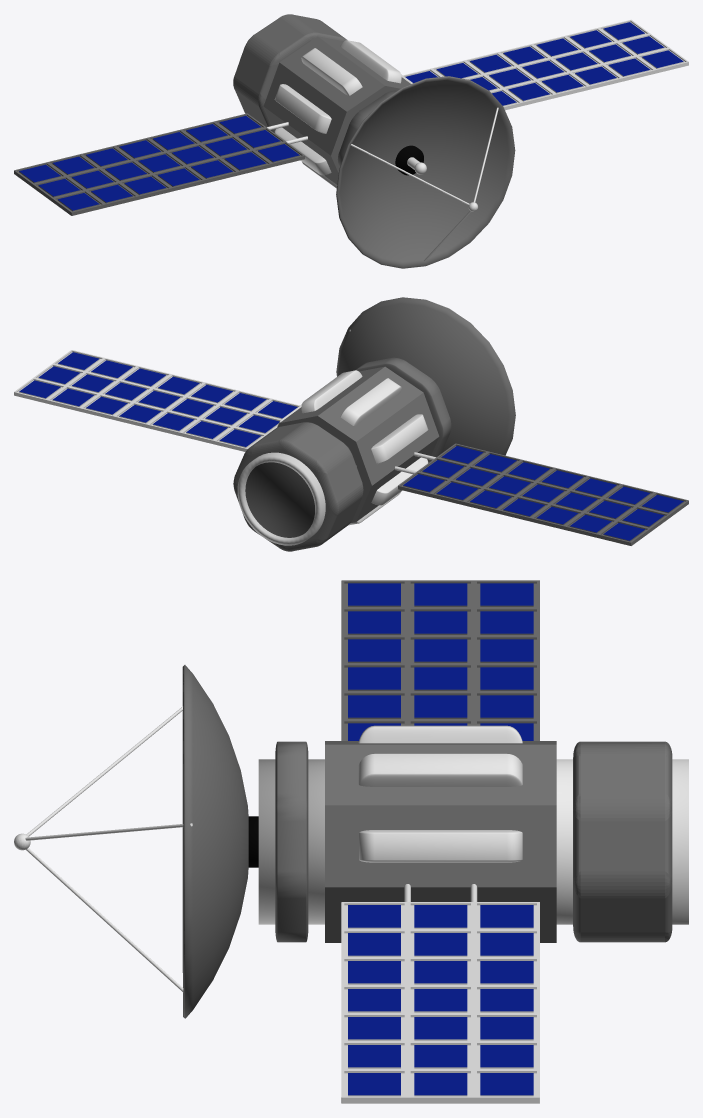
Rendered from civ_sat_1_4.glb.
3 views of the same model, one above another, from view 1: azimuth 30°, elevation 25°; view 2: azimuth 150°, elevation 25°; view 3: azimuth 270°, elevation 25° (orthographic). The views are drawn at different scales.
Parts seen in each view (by area): view 1: Cylinder.030; view 2: Cylinder.030; view 3: Cylinder.030.
Part boxes in pixels (x1,y1,x2,y2): Cylinder.030: (14, 14, 688, 268); Cylinder.030: (14, 297, 688, 551); Cylinder.030: (14, 580, 688, 1103).
Bounding box in the file's own units: 37 × 10.75 × 20.4.
